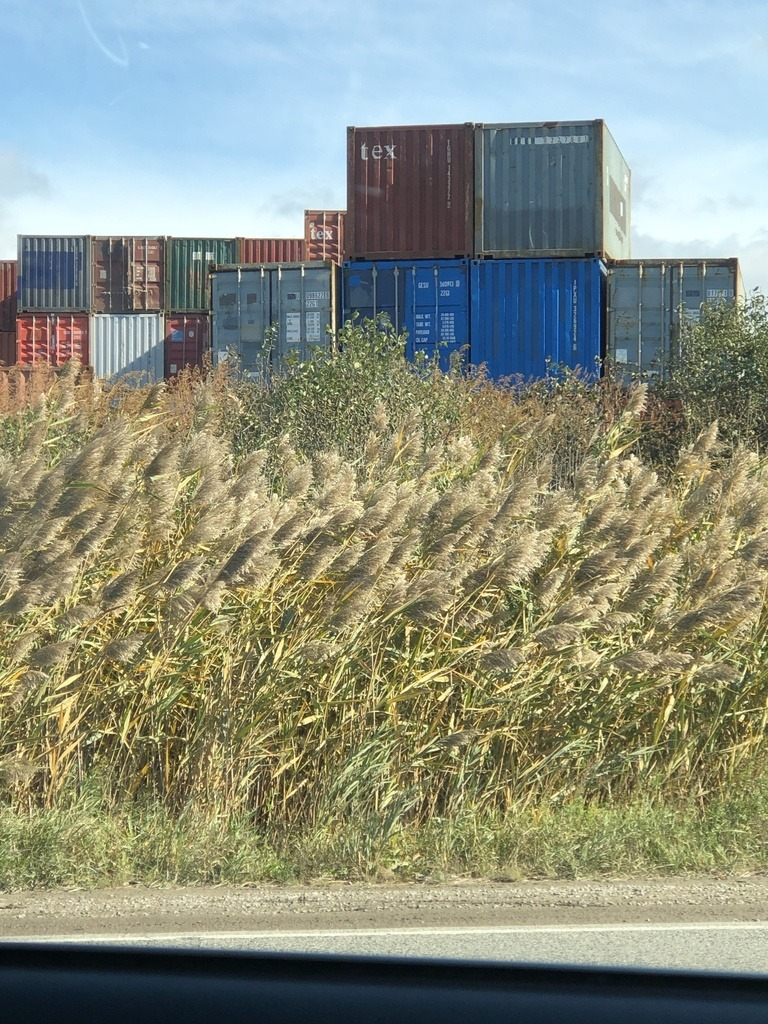common reed: (2, 345, 766, 873)
